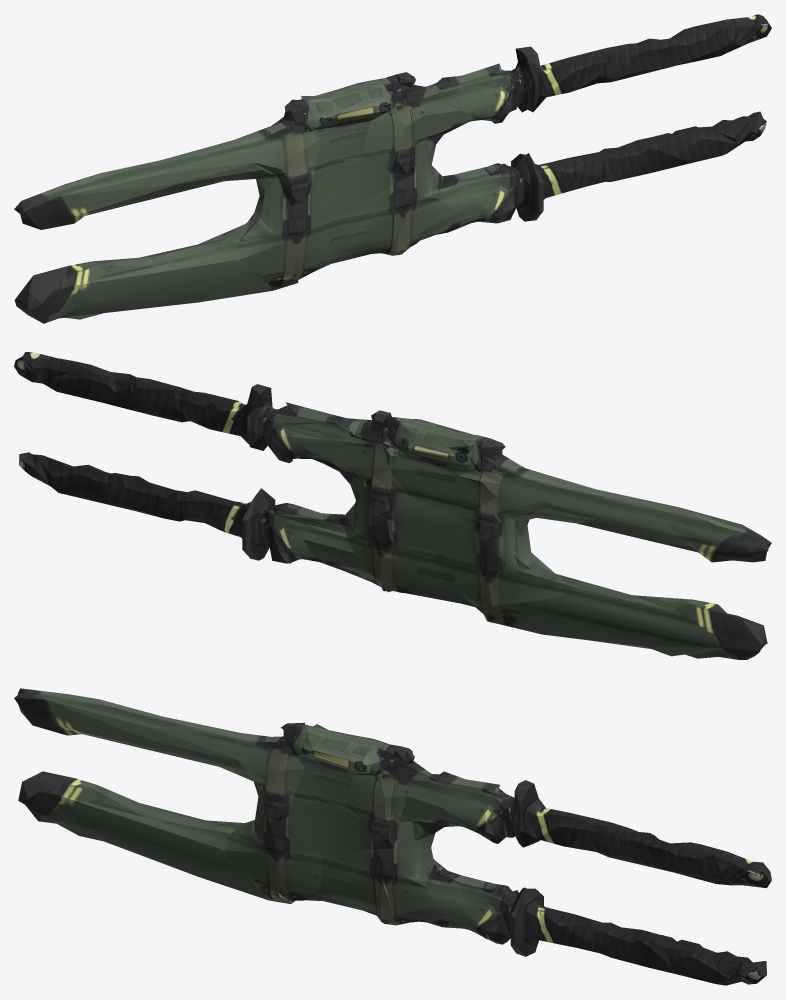
File: twin_swords_sheathed.obj
3 renders of one model, top to bottom at view 1: azimuth 30°, elevation 25°; view 2: azimuth 150°, elevation 25°; view 3: azimuth 330°, elevation 25°, orthographic.
Visible parts, largest first — view 1: twin_swords_sheathed; view 2: twin_swords_sheathed; view 3: twin_swords_sheathed.
Part boxes in pixels (x1,y1,x2,y2): twin_swords_sheathed: (14, 14, 771, 323); twin_swords_sheathed: (14, 352, 771, 659); twin_swords_sheathed: (14, 688, 771, 985).
Bounding box in the file's own units: 0.8 × 0.185 × 0.0579.
